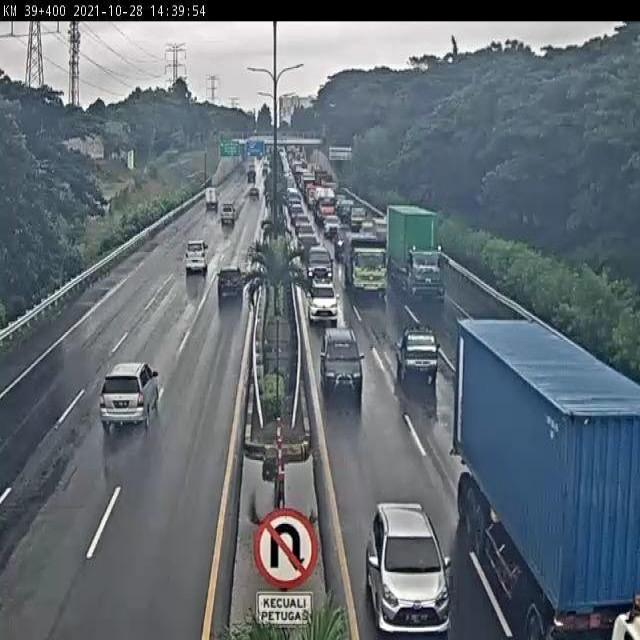big truck: (457, 321, 640, 640), (387, 205, 442, 291), (340, 229, 386, 288)
car: (365, 502, 453, 634), (98, 361, 159, 432), (321, 328, 362, 393), (395, 324, 438, 385), (308, 277, 336, 316), (217, 266, 245, 302), (306, 246, 331, 282), (185, 238, 207, 270), (297, 230, 318, 258), (219, 201, 237, 228)
